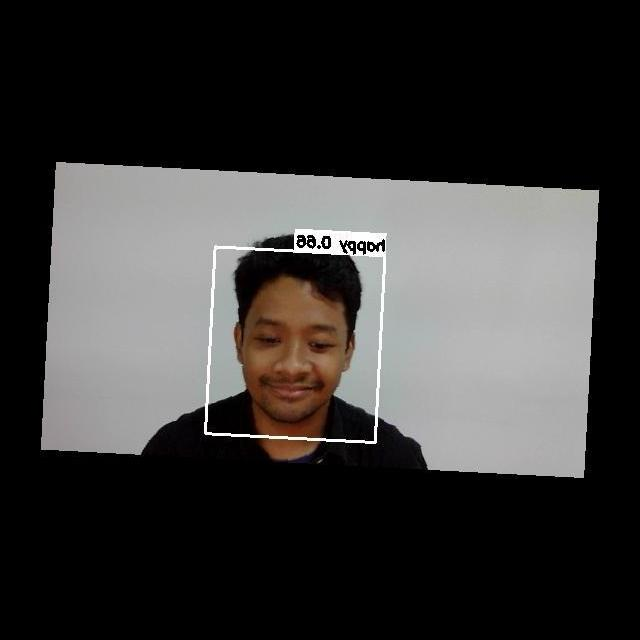Happy: (238, 298, 344, 411)
